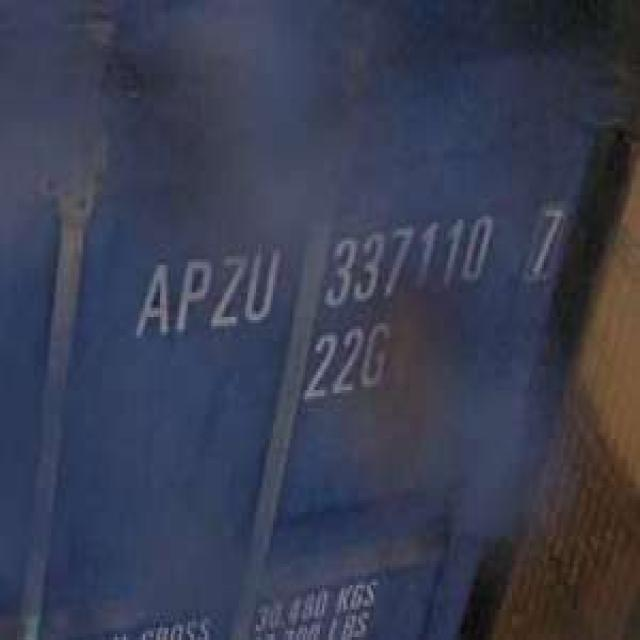dv: (524, 195, 570, 287)
owner: (126, 238, 286, 344)
serial: (318, 207, 497, 311)
size: (301, 317, 420, 405)
